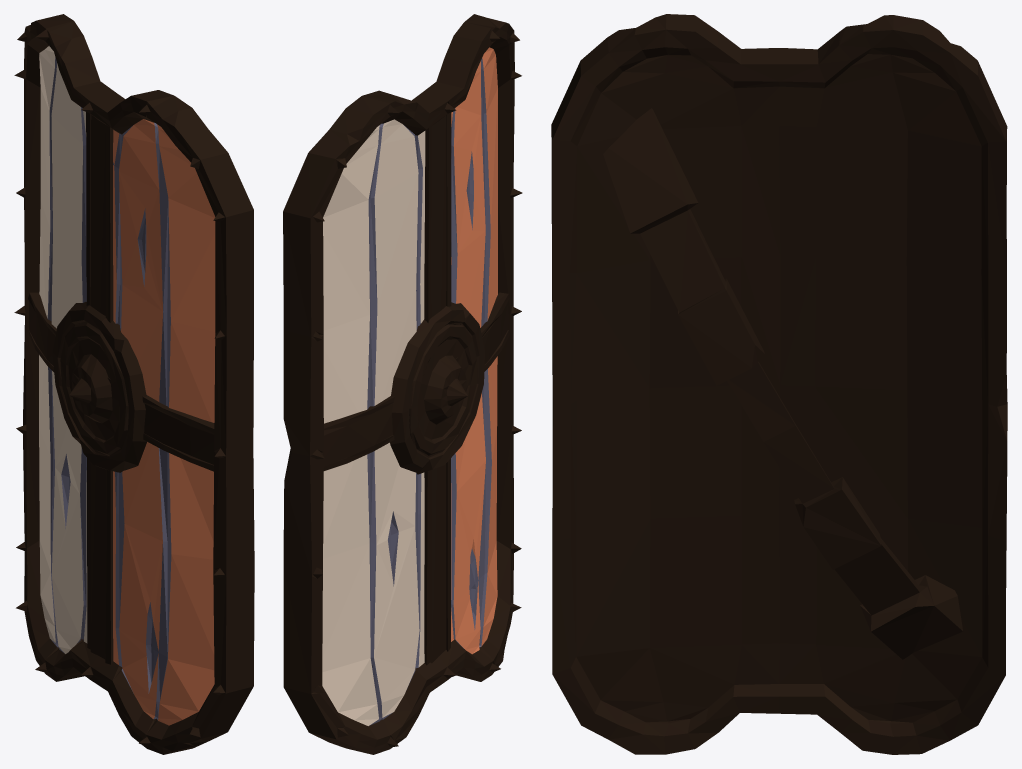
File: SFFA_Shield_Wooden_007.fbx
3 views of the same model, side by side, from view 1: azimuth 30°, elevation 25°; view 2: azimuth 150°, elevation 25°; view 3: azimuth 270°, elevation 25° (orthographic). The views are drawn at different scales.
Visible parts, largest first — view 1: SFFA_Shield_Wooden_007; view 2: SFFA_Shield_Wooden_007; view 3: SFFA_Shield_Wooden_007.
Part boxes in pixels (x1,y1,x2,y2): SFFA_Shield_Wooden_007: (14,14,254,754); SFFA_Shield_Wooden_007: (283,14,522,754); SFFA_Shield_Wooden_007: (551,14,1007,754).
Bounding box in the file's own units: 28.16 × 118 × 67.34.
